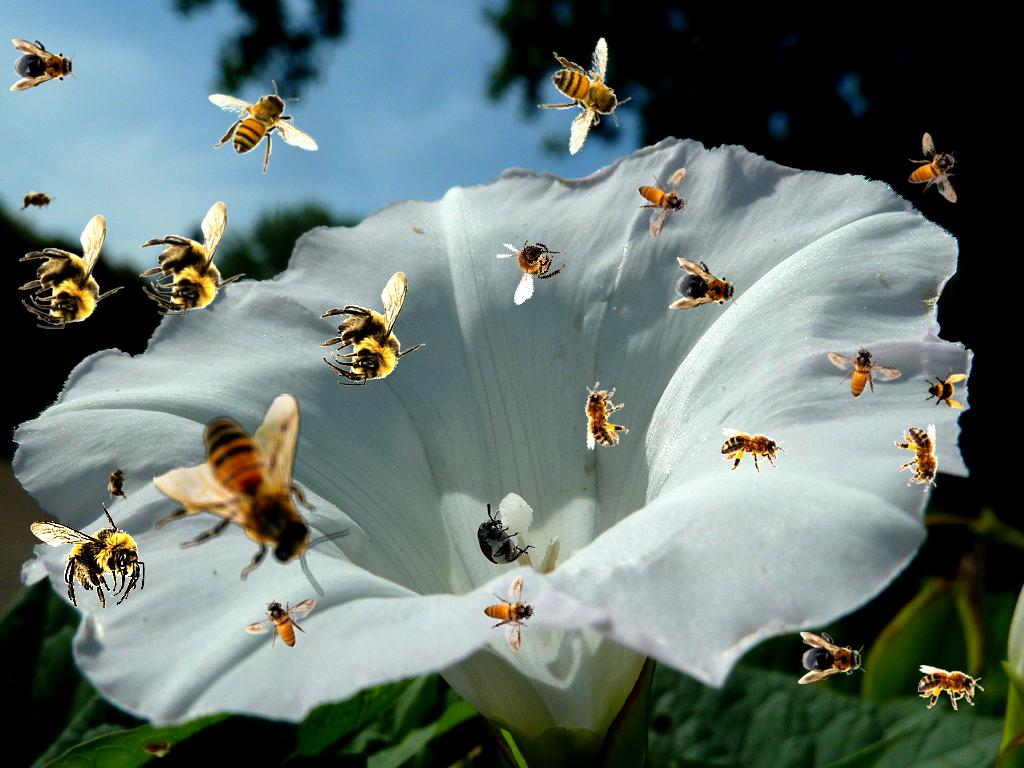Bee: (153, 393, 352, 597), (526, 33, 641, 161), (319, 271, 426, 386), (30, 502, 145, 609), (139, 201, 246, 316), (18, 214, 125, 329), (208, 80, 319, 174), (485, 217, 578, 307), (620, 155, 708, 240), (816, 328, 904, 413), (472, 567, 550, 654), (573, 377, 633, 452), (890, 422, 950, 497), (669, 257, 743, 317), (908, 132, 958, 203), (245, 598, 316, 648), (798, 632, 866, 684), (10, 39, 78, 91), (721, 428, 787, 473), (918, 665, 984, 710), (923, 367, 967, 411), (105, 462, 131, 504), (17, 190, 57, 212), (136, 736, 176, 758)
